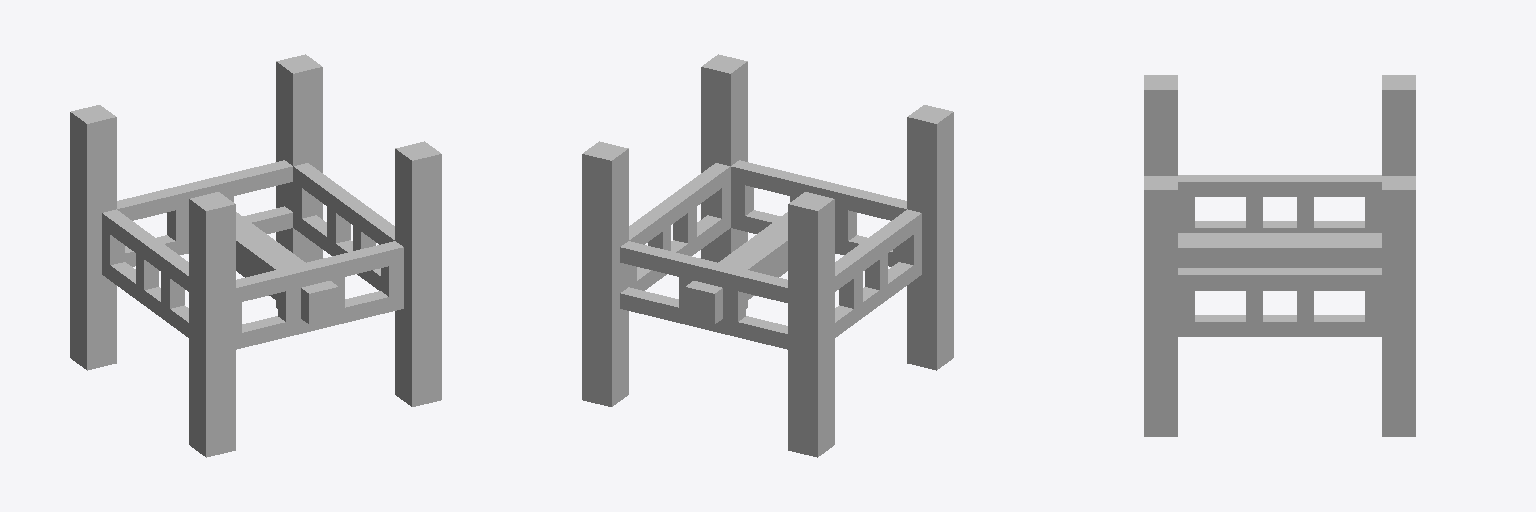
Rendered from power_generators_shaft.obj.
The picture shows the model from 3 angles: view 1: azimuth 30°, elevation 25°; view 2: azimuth 150°, elevation 25°; view 3: azimuth 270°, elevation 25°; orthographic projection.
Visible parts, largest first — view 1: node_0_0_0.022; view 2: node_0_0_0.022; view 3: node_0_0_0.022.
Part boxes in pixels (x1,y1,x2,y2): node_0_0_0.022: (70, 54, 441, 457); node_0_0_0.022: (582, 54, 953, 457); node_0_0_0.022: (1144, 75, 1415, 436).
Bounding box in the file's own units: 1 × 1 × 1.